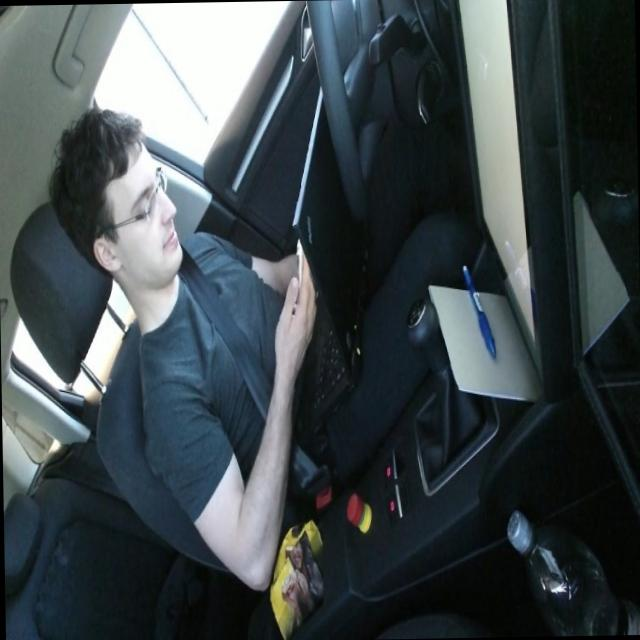laptop: (290, 75, 362, 435)
pen: (462, 260, 496, 359)
